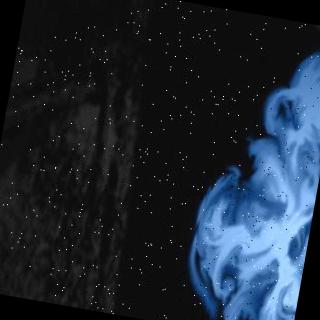smoke: (178, 66, 320, 320)
